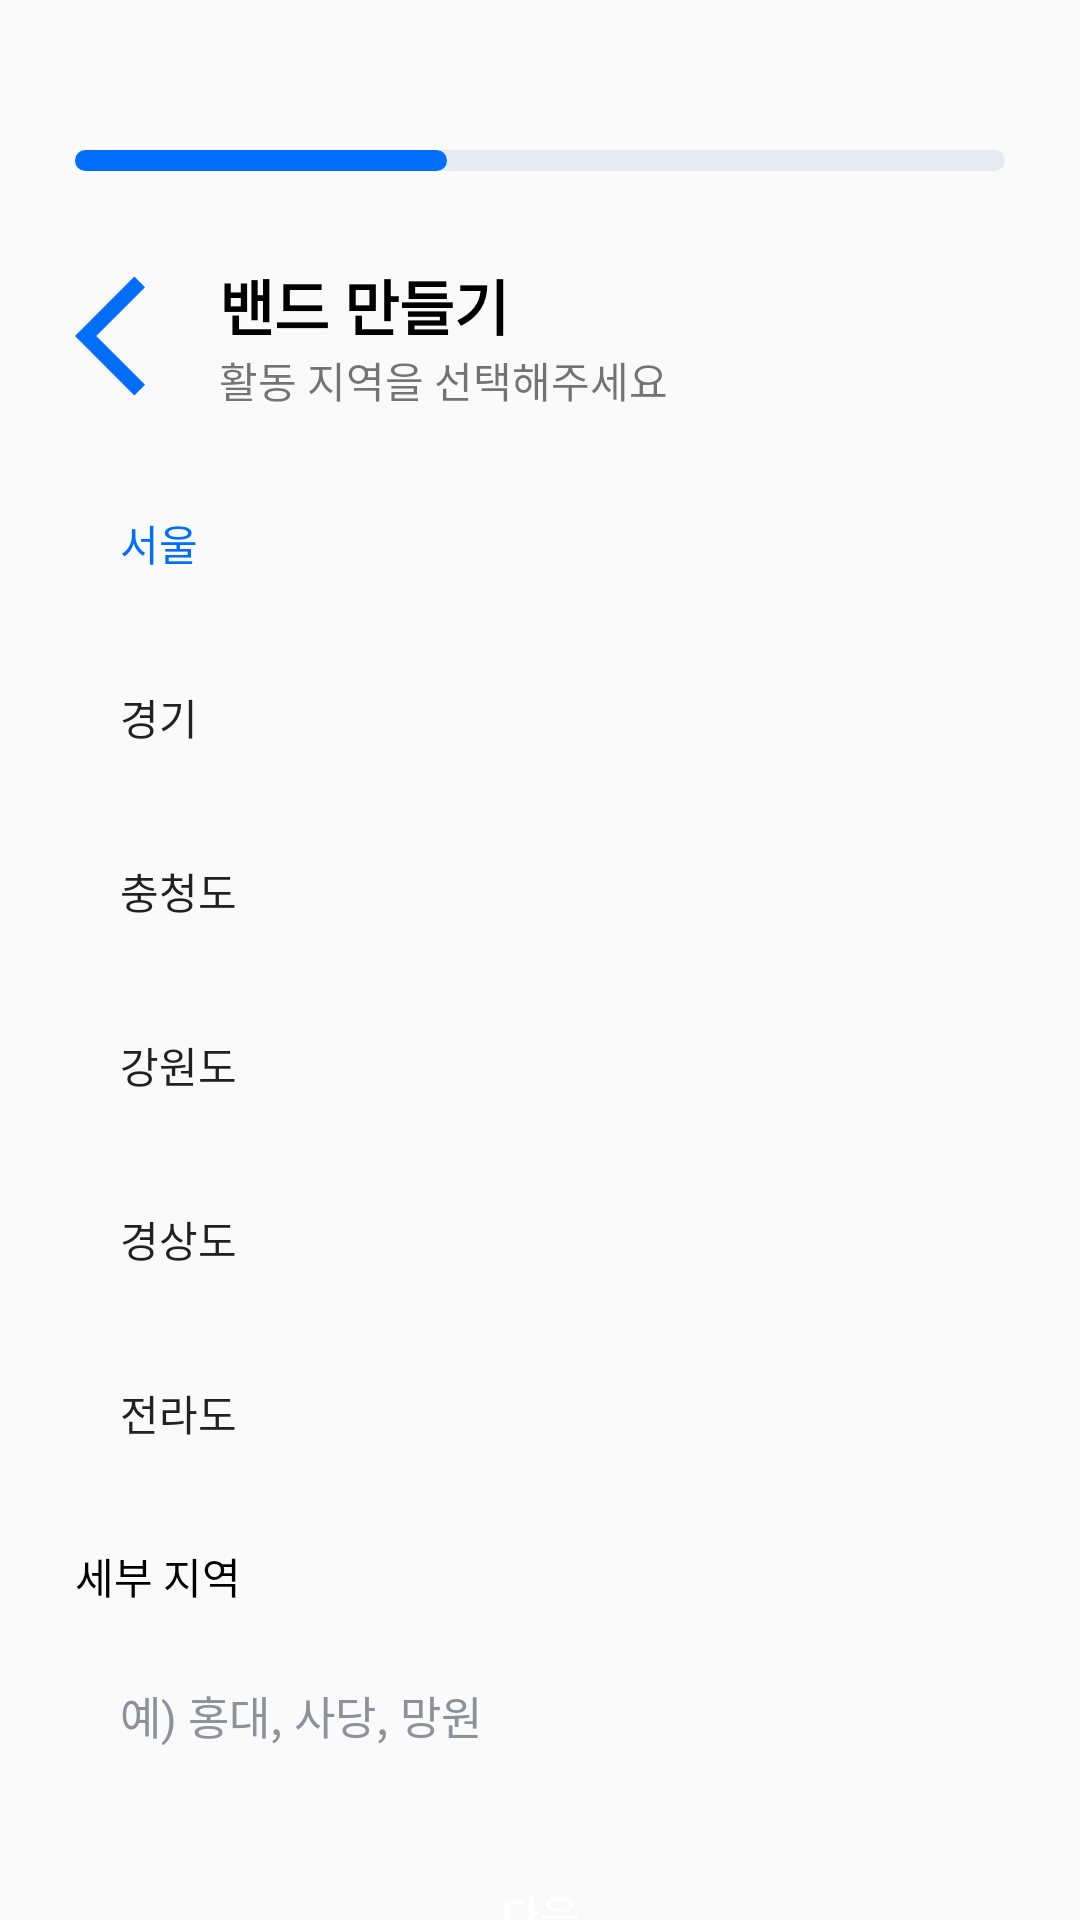

Named icons in this screenshot (1080px x 1920px) and their bounding boxes, bbox=[x1, y1, x2, y2]:
arrow back: bbox=[75, 276, 145, 396]
